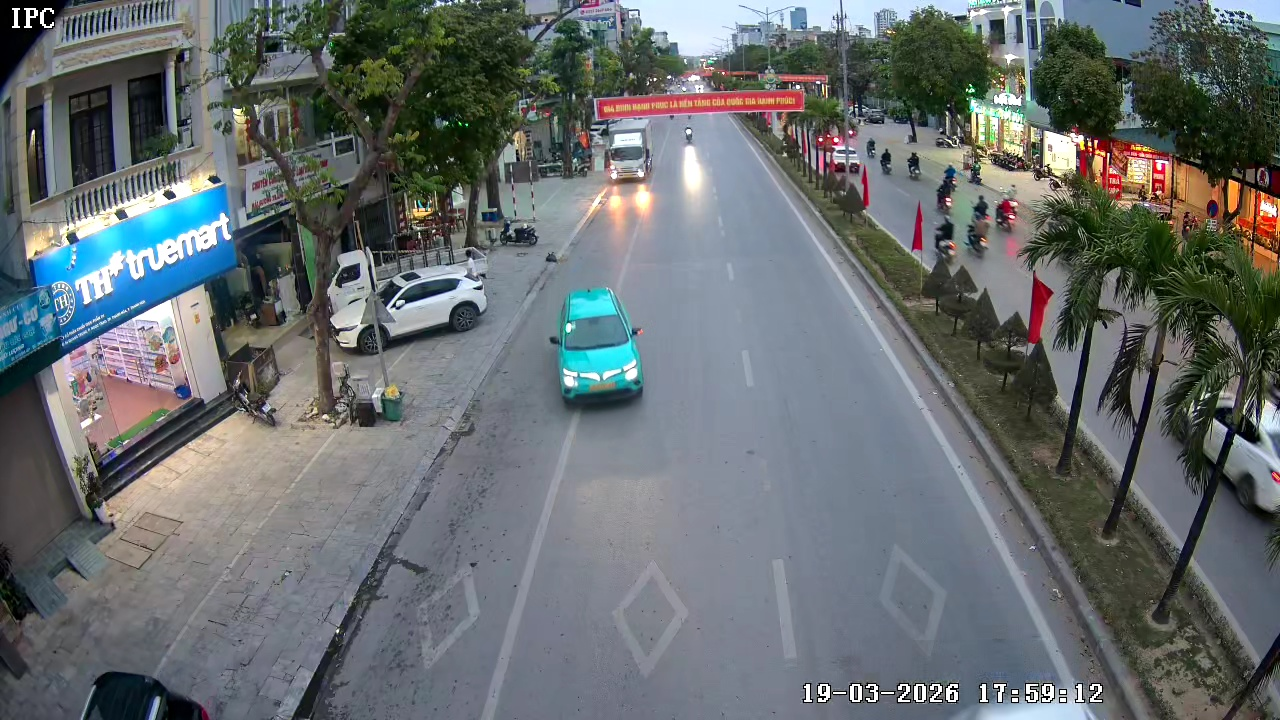car: (330, 264, 488, 352), (547, 285, 646, 406)
motorbike: (964, 195, 992, 258), (931, 207, 959, 264), (994, 182, 1019, 234), (934, 165, 959, 213), (681, 124, 697, 147)
truck: (605, 108, 653, 182)
